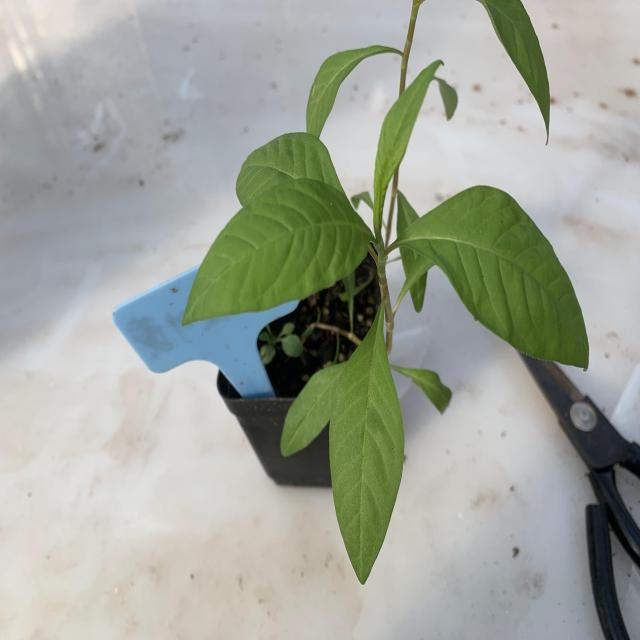white_smart_weed: (202, 84, 566, 540)
